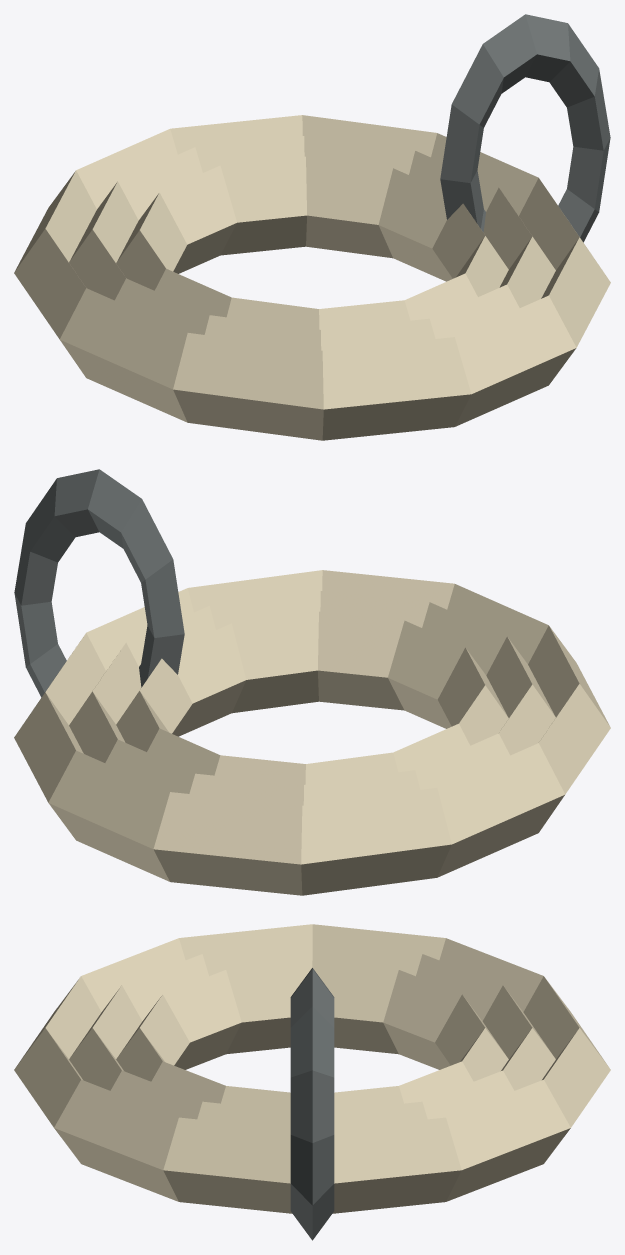
File: mascate_corda.glb
3 views of the same model, one above another, from view 1: azimuth 30°, elevation 25°; view 2: azimuth 150°, elevation 25°; view 3: azimuth 270°, elevation 25° (orthographic). The views are drawn at different scales.
Parts seen in each view (by area): view 1: mascate_corda; view 2: mascate_corda; view 3: mascate_corda.
Part boxes in pixels (<box>): mascate_corda: <box>14,14,610,440</box>; mascate_corda: <box>14,469,610,895</box>; mascate_corda: <box>14,924,610,1240</box>.
Bounding box in the file's own units: 2 × 1 × 2.
